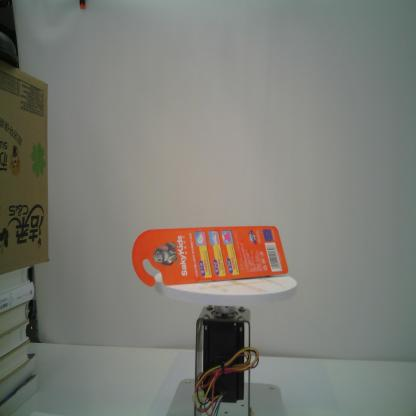Personal Hygiene: (132, 226, 289, 286)
